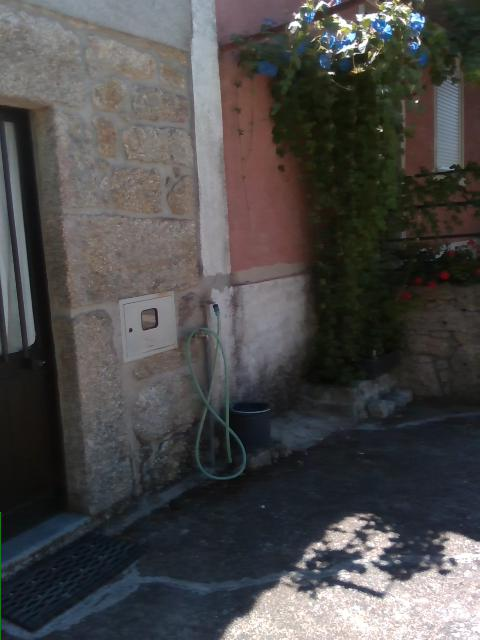door: (0, 91, 90, 570)
